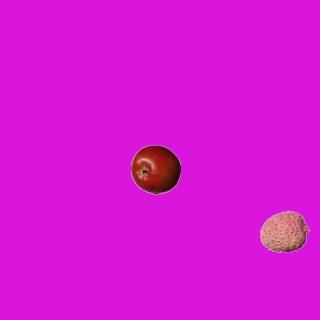Apple Braeburn: (130, 144, 180, 194)
Lychee: (259, 206, 309, 256)
